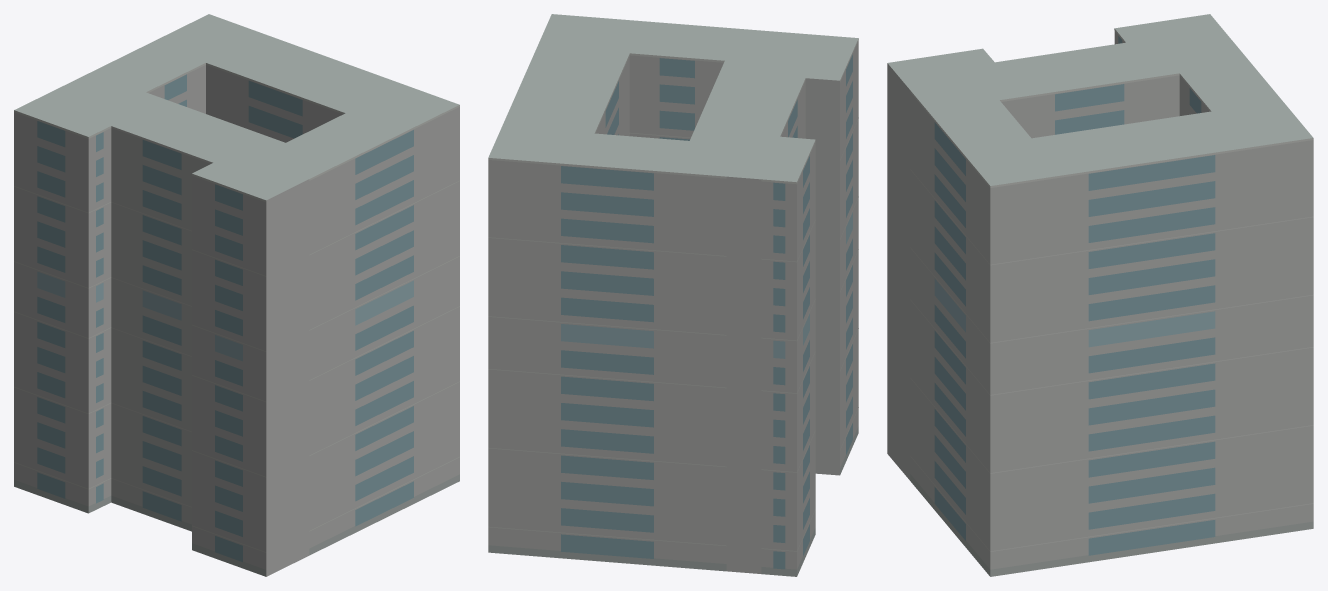
File: residential-36a1e9fc-c76f-433c-8a86-c590314463e2.glb
3 renders of one model, left to right at view 1: azimuth 30°, elevation 25°; view 2: azimuth 150°, elevation 25°; view 3: azimuth 270°, elevation 25°, orthographic. The views are drawn at different scales.
Visible parts, largest first — view 1: residential-36a1e9fc-c76f-433c-8a86-c590314463e2.tmp; view 2: residential-36a1e9fc-c76f-433c-8a86-c590314463e2.tmp; view 3: residential-36a1e9fc-c76f-433c-8a86-c590314463e2.tmp.
Boxes of the visible parts, bbox=[...] form: residential-36a1e9fc-c76f-433c-8a86-c590314463e2.tmp: bbox=[14, 14, 459, 576]; residential-36a1e9fc-c76f-433c-8a86-c590314463e2.tmp: bbox=[488, 14, 858, 576]; residential-36a1e9fc-c76f-433c-8a86-c590314463e2.tmp: bbox=[887, 14, 1313, 576].
Bounding box in the file's own units: 44.41 × 47 × 46.47.
